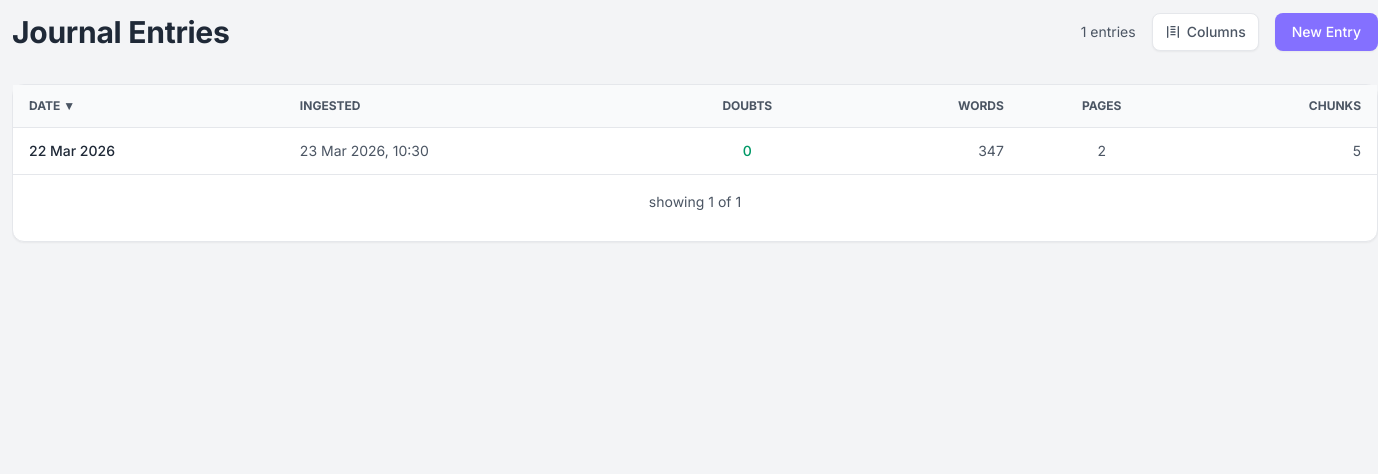
Test: Column visibility › restores defaults on reset
// Open menu and click reset
Step 1. Click the button with test id "columns-button" → [1205, 32], box [1152, 13, 1259, 51]
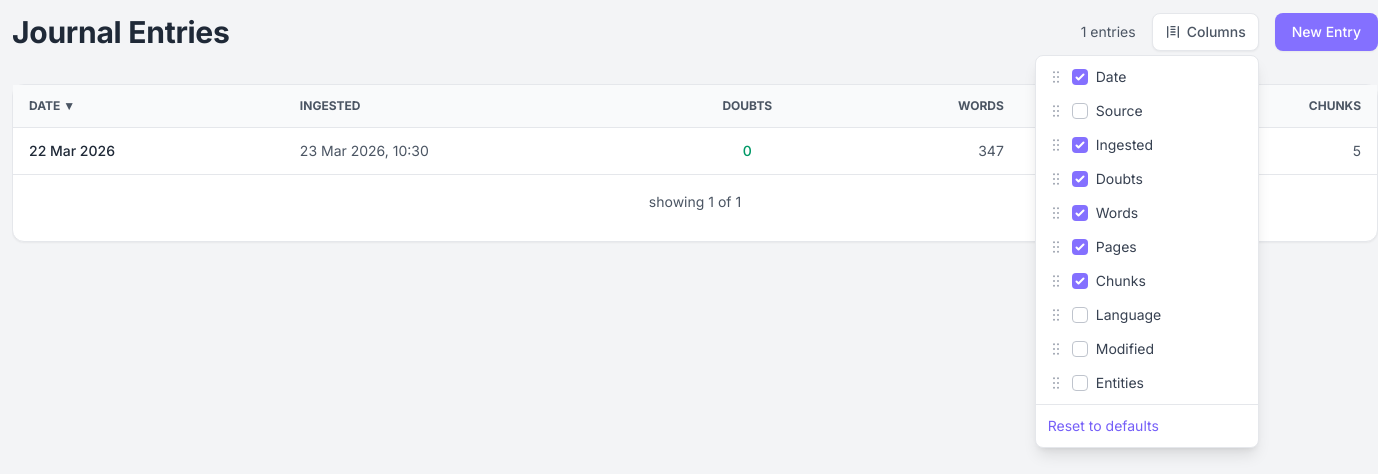
Step 2. Click the button with test id "columns-reset" → [1147, 426], box [1036, 409, 1258, 443]
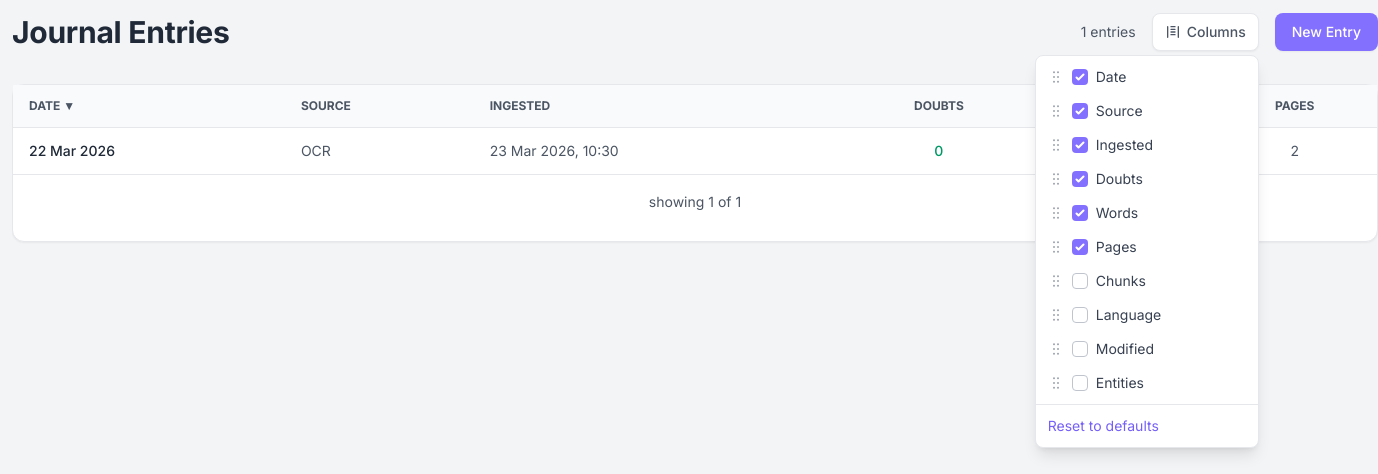
Check: the column heading with test id "sort-source" is shown, box [285, 85, 474, 128]
